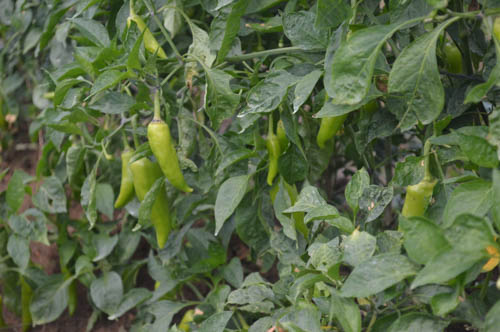ChiliPepper: (130, 157, 168, 246), (147, 123, 188, 193), (125, 18, 167, 60), (401, 178, 434, 227), (316, 97, 345, 148), (274, 184, 302, 234), (114, 149, 135, 215), (264, 137, 279, 186)
